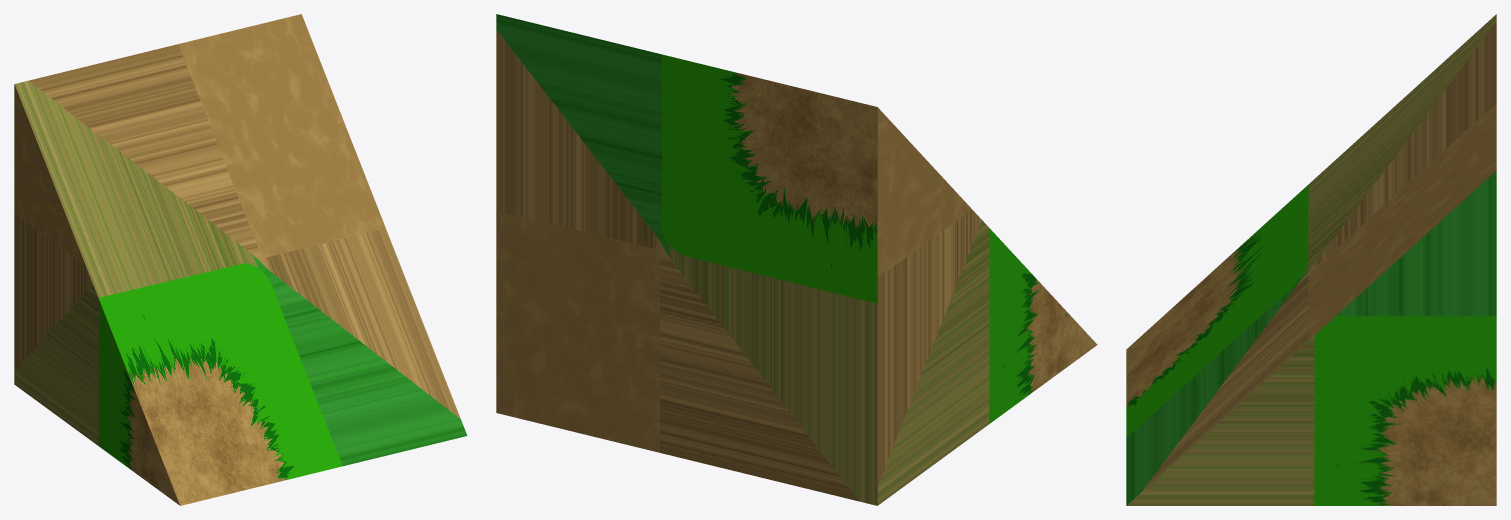
Rendered from floor07.fbx.
The picture shows the model from 3 angles, left to right: view 1: azimuth 30°, elevation 25°; view 2: azimuth 150°, elevation 25°; view 3: azimuth 270°, elevation 25°; orthographic projection. The views are drawn at different scales.
Visible parts, largest first — view 1: floor07; view 2: floor07; view 3: floor07.
Part boxes in pixels (<box>): floor07: <box>14,14,467,505</box>; floor07: <box>496,14,1097,505</box>; floor07: <box>1126,14,1496,505</box>.
Bounding box in the file's own units: 10 × 10 × 10.
